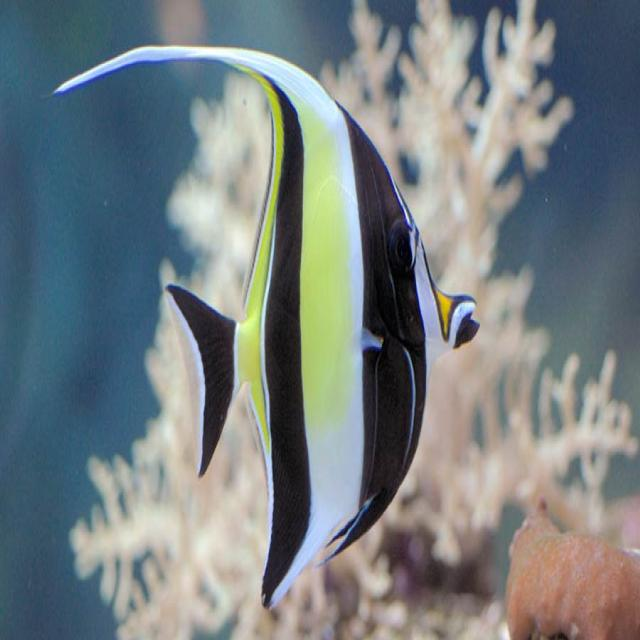MorishIdol: (47, 41, 481, 613)
